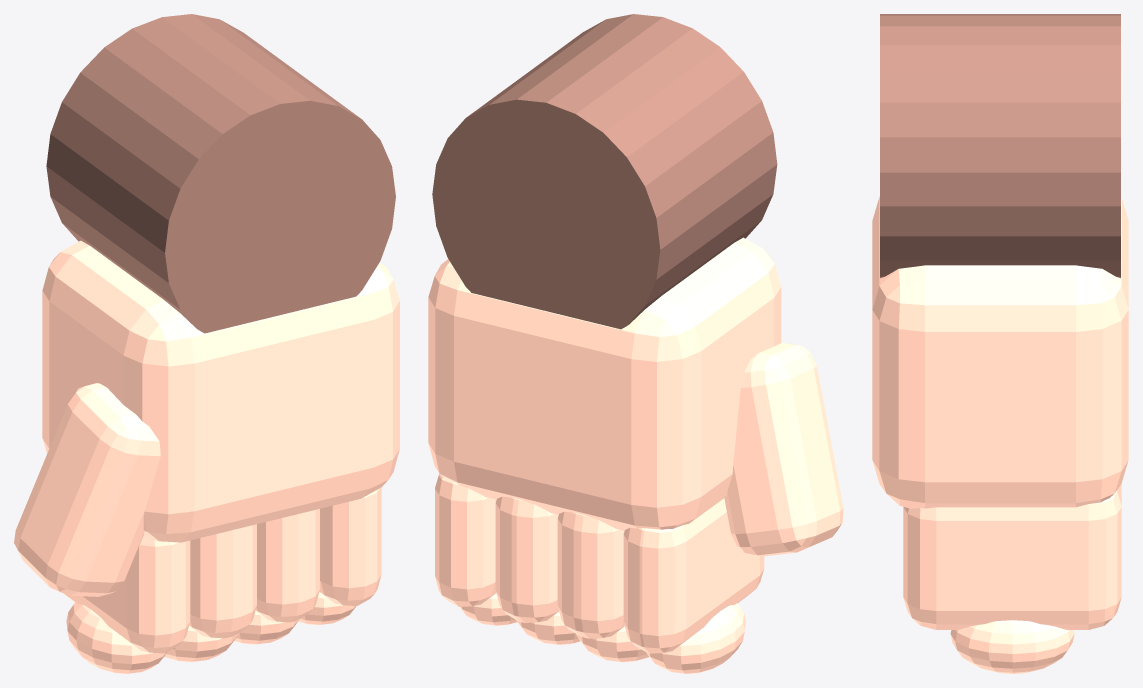
The model's file is gomu_gear3_fist.glb.
3 views of the same model, side by side, from view 1: azimuth 30°, elevation 25°; view 2: azimuth 150°, elevation 25°; view 3: azimuth 270°, elevation 25° (orthographic). The views are drawn at different scales.
Parts seen in each view (by area): view 1: gomu_gear3_fist; view 2: gomu_gear3_fist; view 3: gomu_gear3_fist.
Boxes of the visible parts, <box> form: gomu_gear3_fist: <box>14,14,399,673</box>; gomu_gear3_fist: <box>428,14,843,673</box>; gomu_gear3_fist: <box>872,14,1128,673</box>.
Size of the model in its own units: 2.69 by 4.39 by 1.7.
